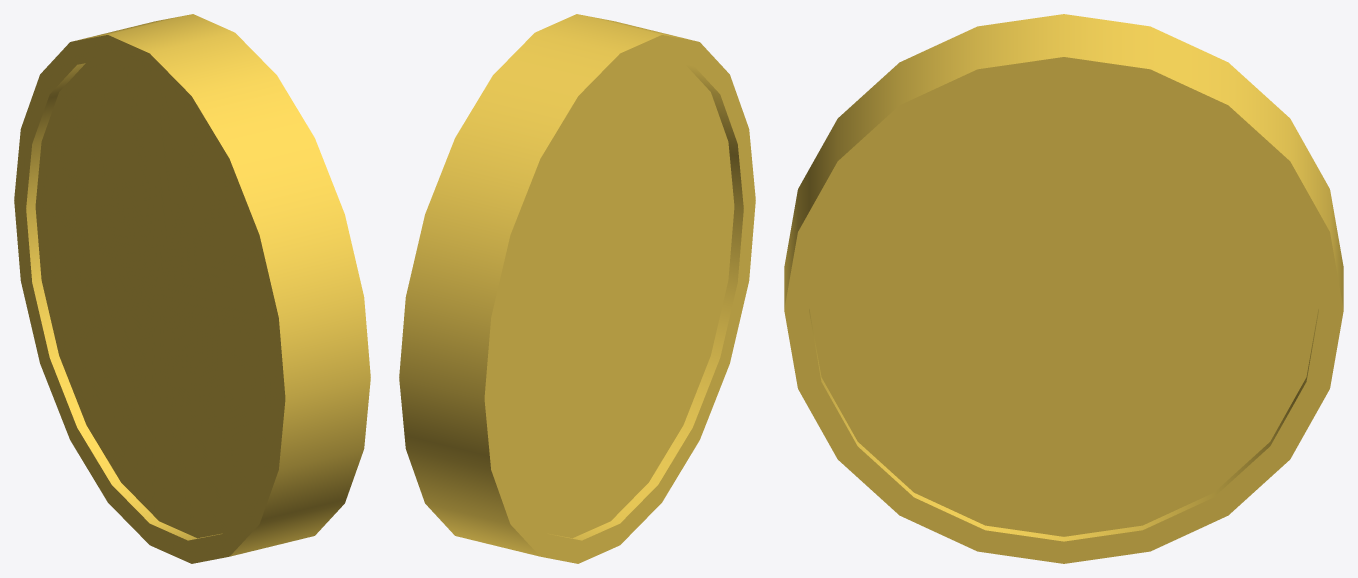
Rendered from hosi_1.fbx.
3 views of the same model, side by side, from view 1: azimuth 30°, elevation 25°; view 2: azimuth 150°, elevation 25°; view 3: azimuth 270°, elevation 25° (orthographic). The views are drawn at different scales.
Visible parts, largest first — view 1: pCylinder3; view 2: pCylinder3; view 3: pCylinder3.
Boxes of the visible parts, x1,y1,x2,y2 form: pCylinder3: (14, 14, 370, 563); pCylinder3: (399, 14, 755, 563); pCylinder3: (784, 14, 1343, 563).
Bounding box in the file's own units: 0.3632 × 2 × 2.
